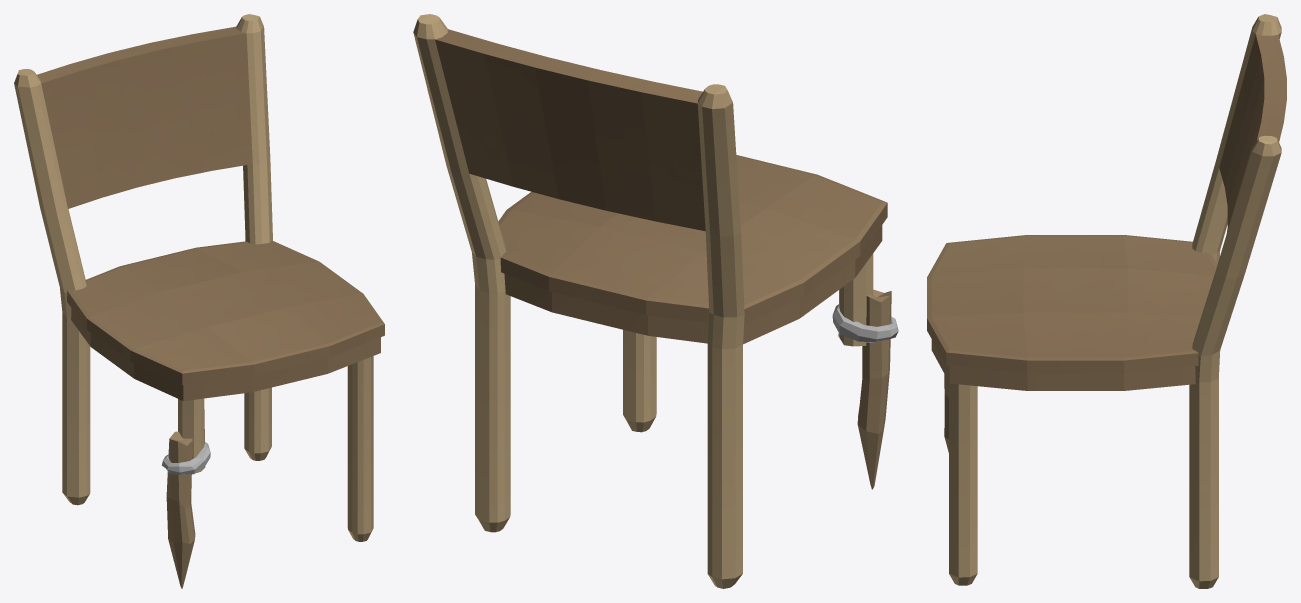
The model's file is chair_repaired_1.glb.
3 renders of one model, left to right at view 1: azimuth 30°, elevation 25°; view 2: azimuth 150°, elevation 25°; view 3: azimuth 270°, elevation 25°, orthographic. The views are drawn at different scales.
Visible parts, largest first — view 1: chair_repaired_1; view 2: chair_repaired_1; view 3: chair_repaired_1.
Part boxes in pixels (<box>): chair_repaired_1: <box>14,14,384,588</box>; chair_repaired_1: <box>413,14,898,588</box>; chair_repaired_1: <box>927,14,1286,588</box>.
Size of the model in its own units: 0.4699 by 0.7643 by 0.5374.
Materials: 1 (1 with a texture image).
